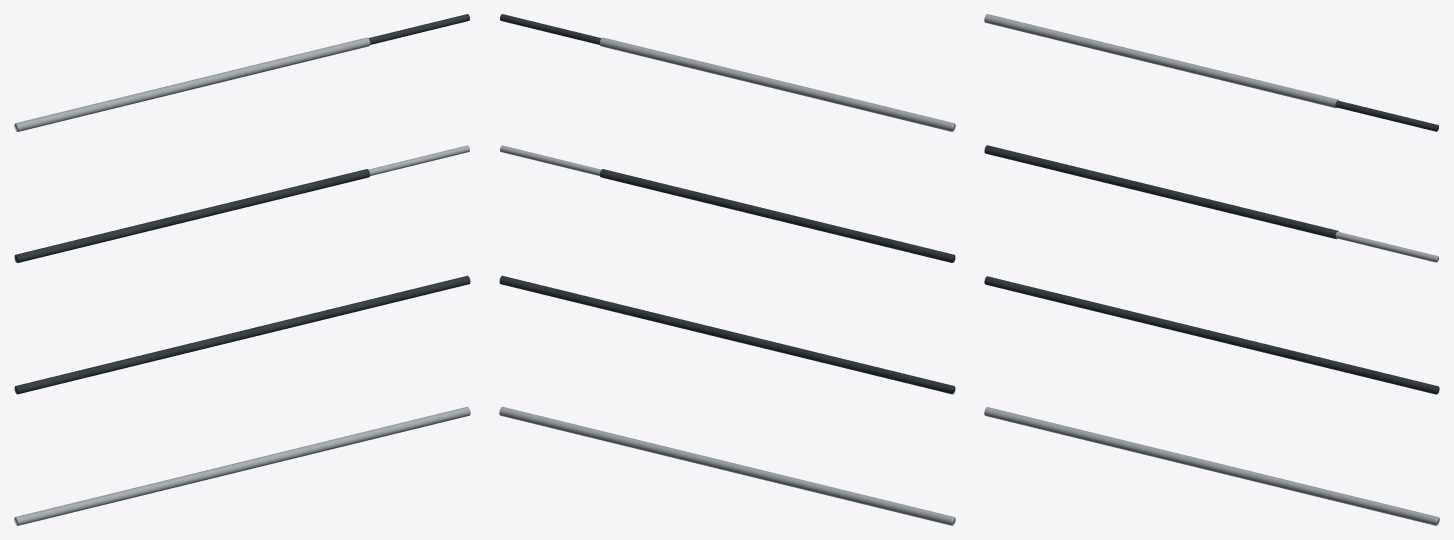
The model's file is shaft_constructions.glb.
The picture shows the model from 3 angles, left to right: view 1: azimuth 30°, elevation 25°; view 2: azimuth 150°, elevation 25°; view 3: azimuth 330°, elevation 25°; orthographic projection.
Visible parts, largest first — view 1: aluminium, all_carbon, aluminium_over_carbon, carbon_over_aluminium; view 2: aluminium, all_carbon, aluminium_over_carbon, carbon_over_aluminium; view 3: aluminium, all_carbon, aluminium_over_carbon, carbon_over_aluminium.
Boxes of the visible parts, x1,y1,x2,y2 form: aluminium: (14,406,470,525); all_carbon: (14,275,470,394); aluminium_over_carbon: (14,14,469,131); carbon_over_aluminium: (14,145,469,262); aluminium: (499,406,955,525); all_carbon: (499,275,955,394); aluminium_over_carbon: (500,14,955,131); carbon_over_aluminium: (500,145,955,262); aluminium: (984,407,1439,525); all_carbon: (984,276,1439,394); aluminium_over_carbon: (984,14,1438,131); carbon_over_aluminium: (984,145,1438,262).
Bounding box in the file's own units: 0.36 × 0.3064 × 0.0064.
2 materials, 1 textured.
